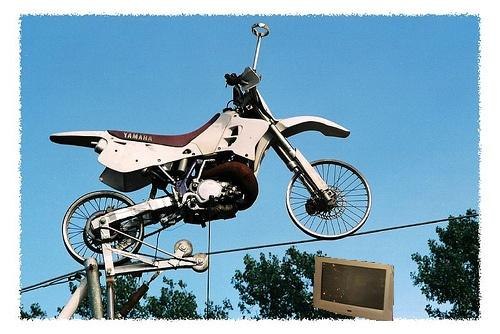tampered: (313, 257, 394, 321)
